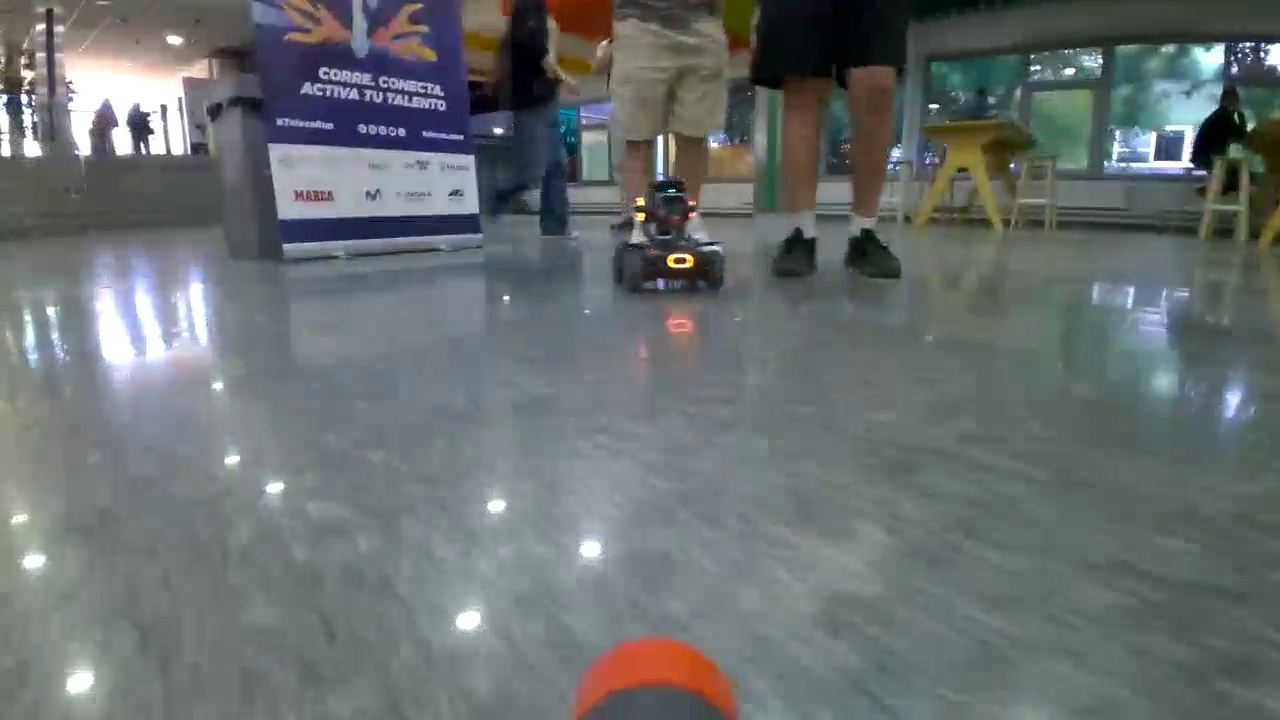robot: (610, 180, 725, 292)
